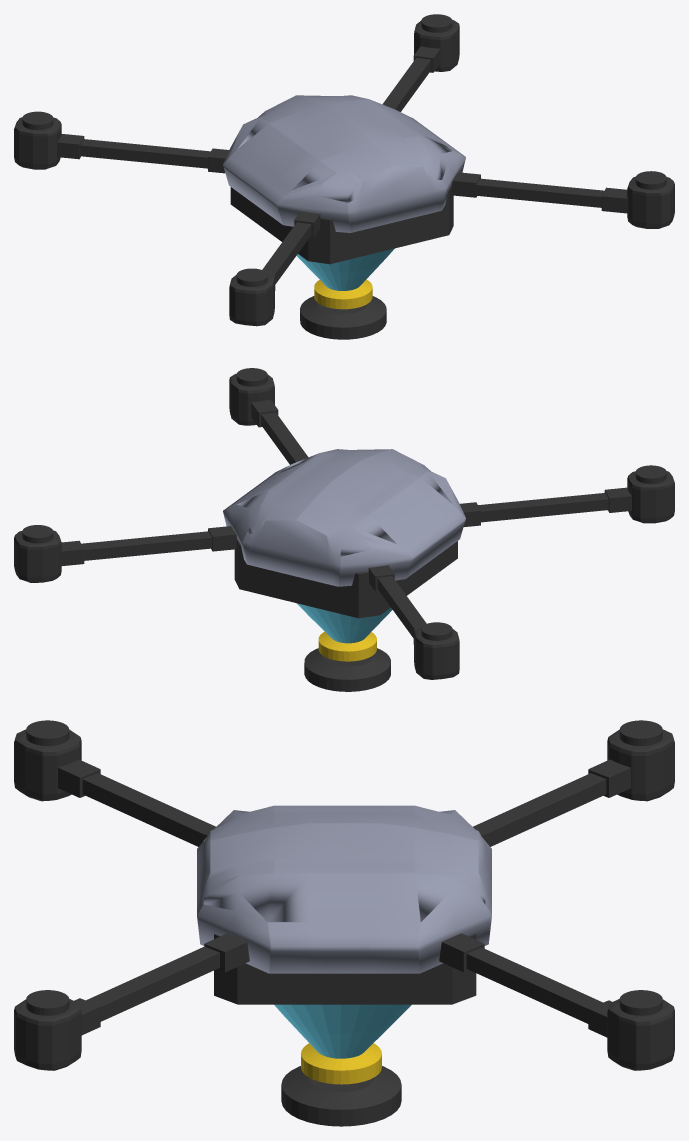
The model's file is Drone.fbx.
The picture shows the model from 3 angles, top to bottom: view 1: azimuth 30°, elevation 25°; view 2: azimuth 150°, elevation 25°; view 3: azimuth 270°, elevation 25°; orthographic projection. The views are drawn at different scales.
Visible parts, largest first — view 1: Cube.003, Cube.006, Cube.004, Cube.062, Cube.008; view 2: Cube.003, Cube.006, Cube.004, Cube.062, Cube.008; view 3: Cube.003, Cube.006, Cube.004, Cube.062, Cube.008.
Part boxes in pixels (x1,y1,x2,y2): Cube.003: (223,95,465,232); Cube.006: (14,14,674,326); Cube.004: (230,185,453,339); Cube.062: (296,248,394,290); Cube.008: (314,279,372,309); Cube.003: (223,449,465,586); Cube.006: (14,368,674,679); Cube.004: (234,539,457,691); Cube.062: (297,603,392,643); Cube.008: (318,631,376,661); Cube.003: (197,805,491,973); Cube.006: (14,720,674,1070); Cube.004: (214,933,476,1126); Cube.062: (274,1004,411,1058); Cube.008: (301,1043,381,1084).
Size of the model in its own units: 347 by 152 by 326.
